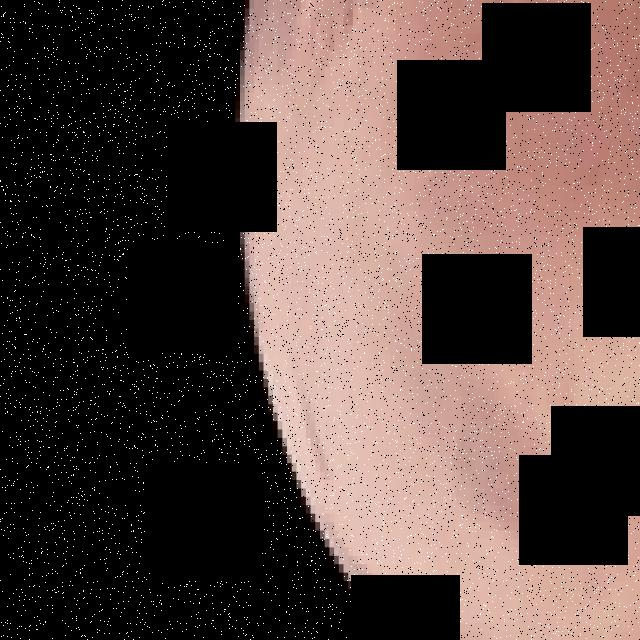Mars: (236, 0, 640, 640)
